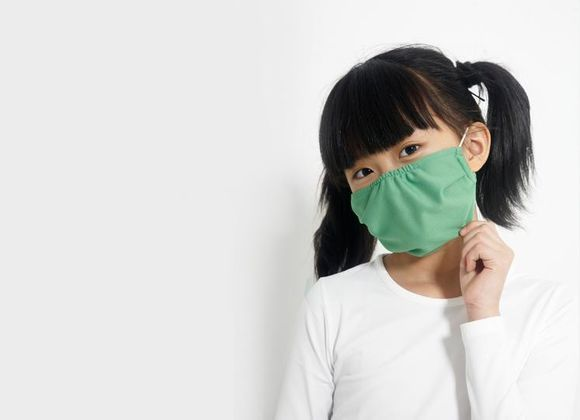face_mask: (344, 100, 470, 252)
